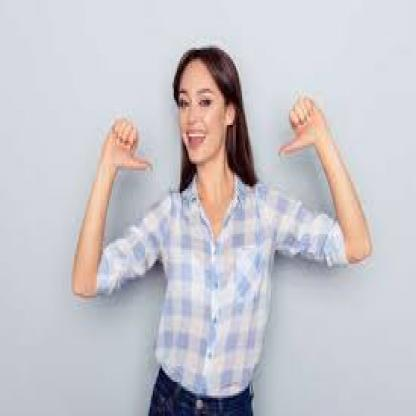thumb_down: (277, 92, 325, 160), (102, 113, 152, 178)
